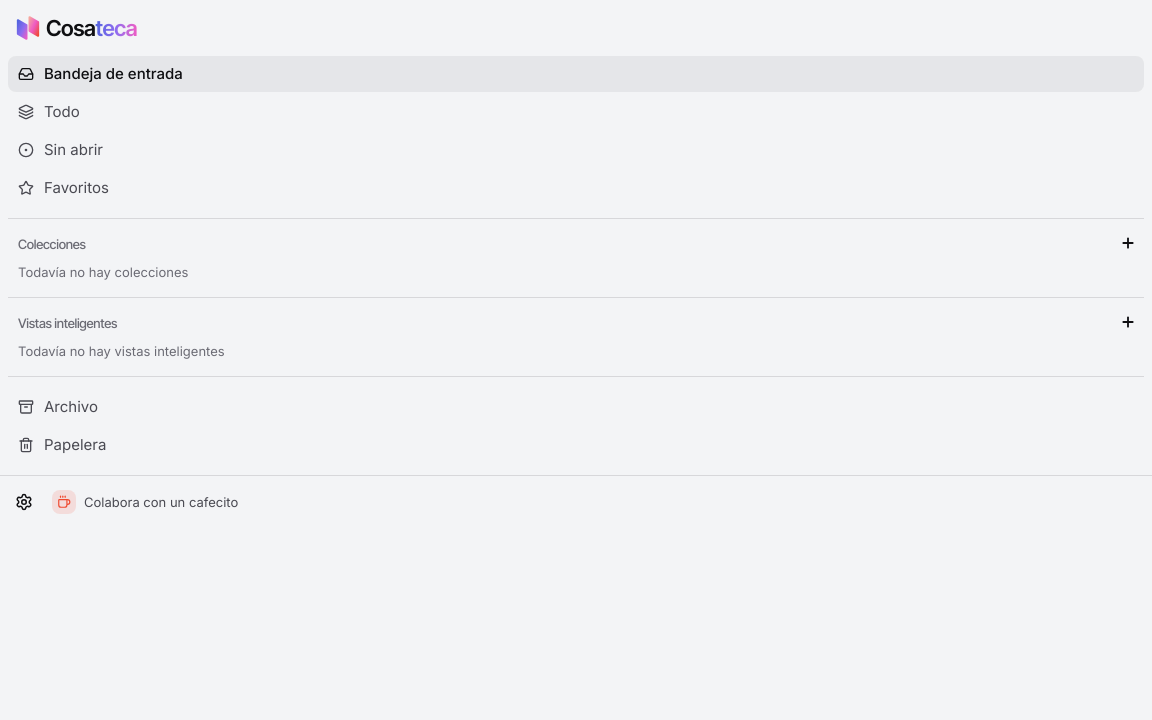
Test: Sidebar in Spanish › names the settings menu items in Spanish
Step 1. Click the button named "Configuración" → point(24, 502), box [8, 486, 40, 518]
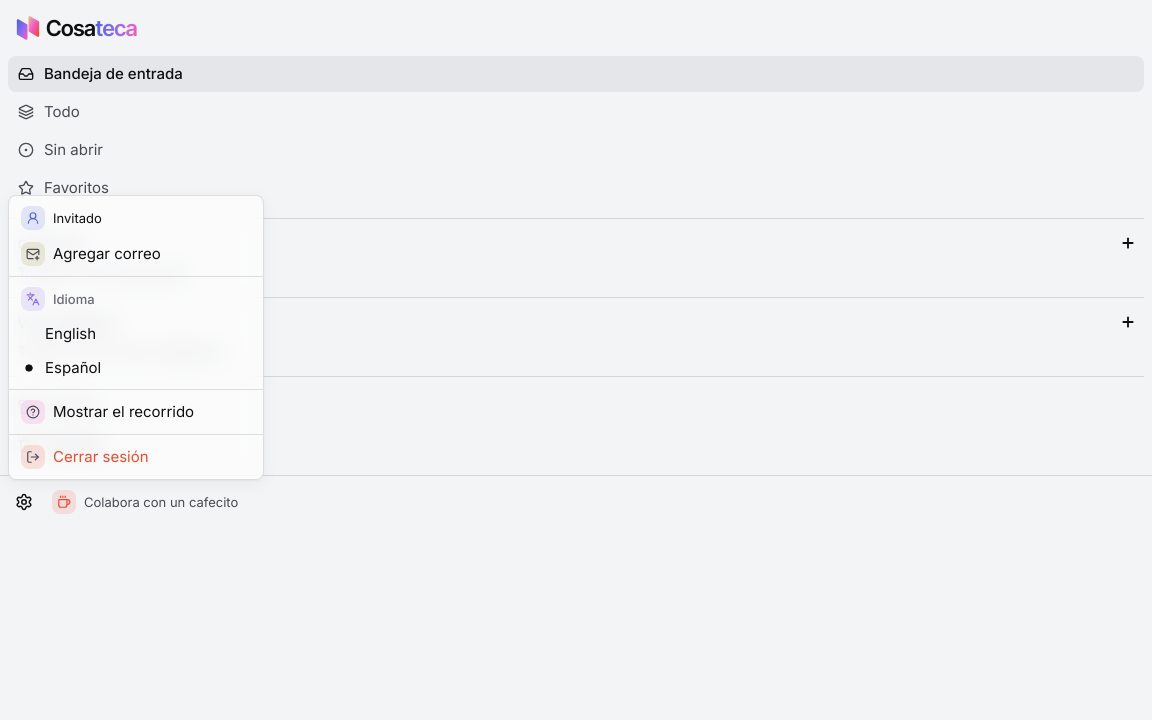
Check: the element named "Cuenta" shows "Invitado", box [53, 210, 102, 226]
Check: the menu item "Cerrar sesión" is shown, box [21, 445, 149, 469]
Check: the menu item "Mostrar el recorrido" is shown, box [21, 400, 194, 424]
